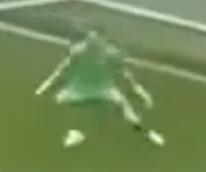goalkeeper: (25, 15, 193, 168)
